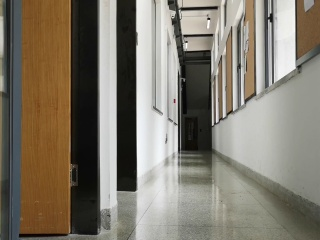room: (2, 1, 103, 237)
